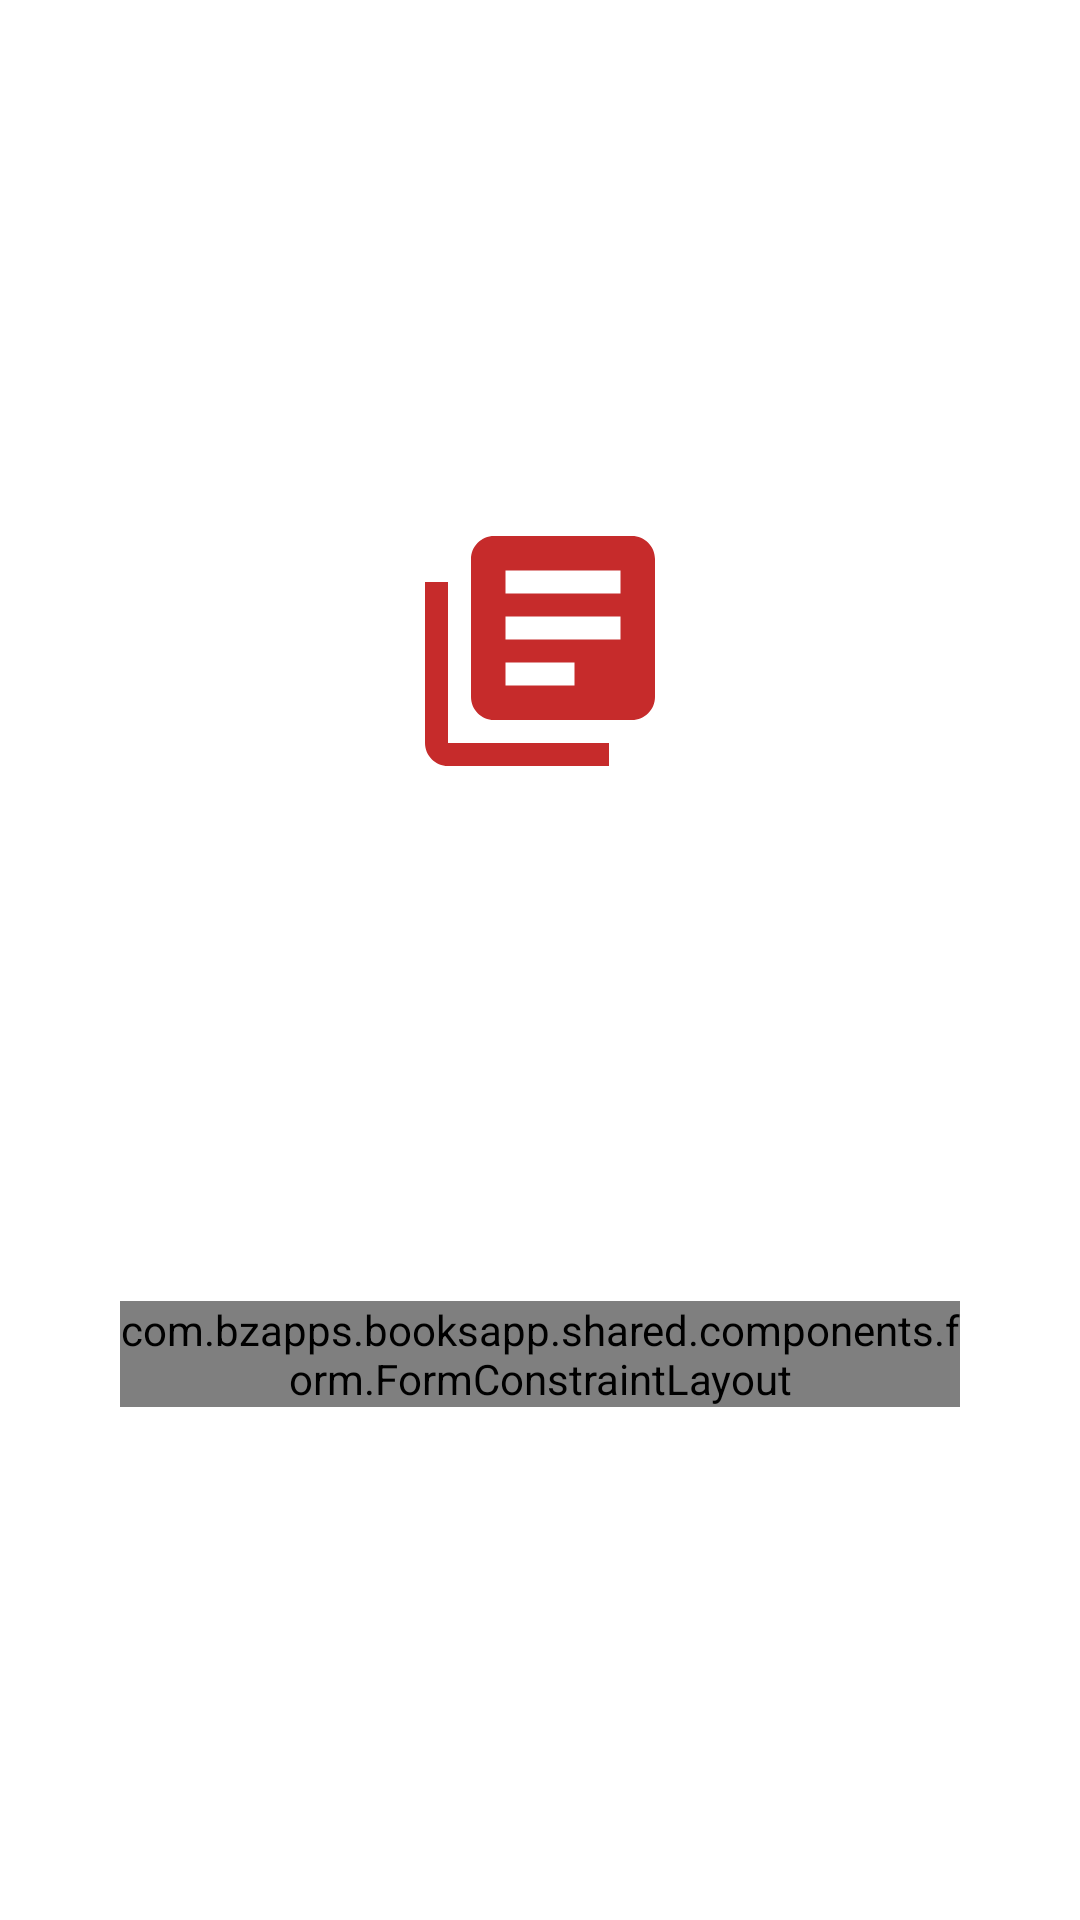

Screen size 1080 x 1920. Icon name, then its box in pixels as (x1, y1, x2, y2):
book: (425, 536, 655, 766)
